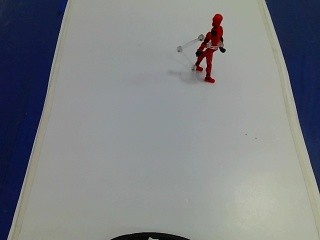pedestrian: (180, 8, 227, 90)
